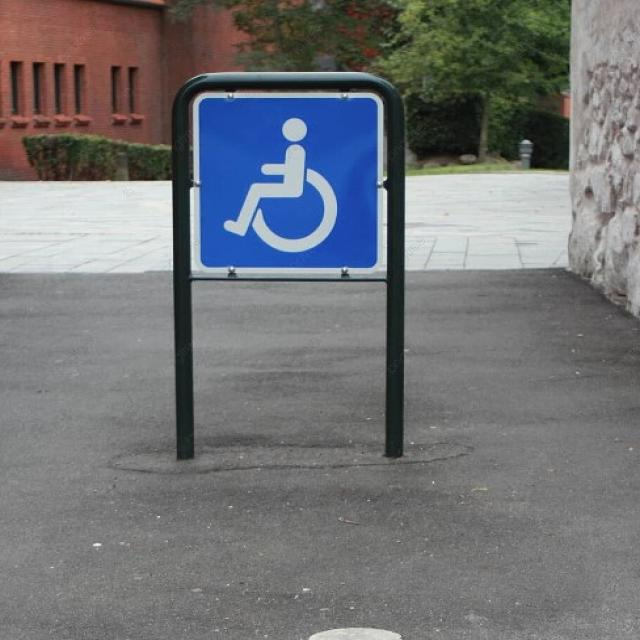symbol_of_access: (194, 89, 383, 273)
